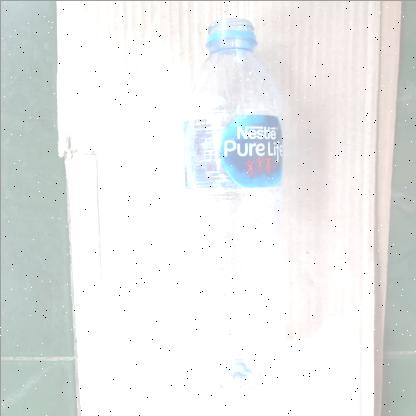Plastic Bottle: (181, 12, 290, 392)
